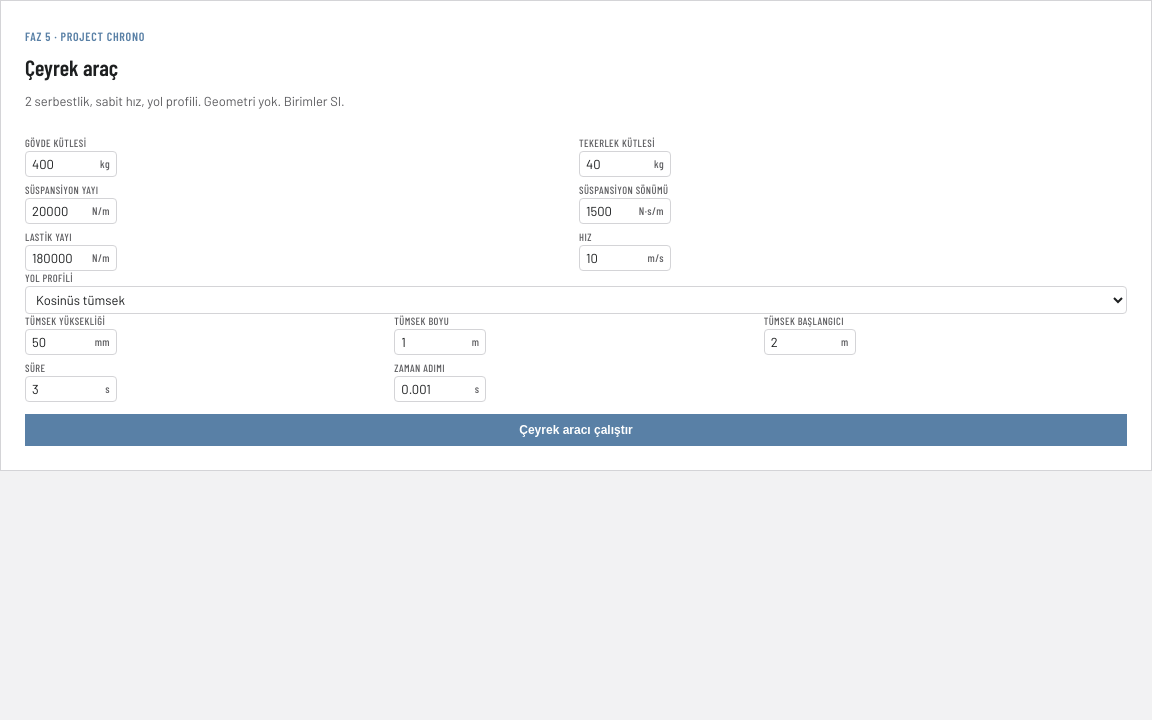
it: MbdPanel (MBD · çeyrek araç) › varsayılanlarla koşar, tepe değerleri ve üç eğriyi gösterir
Expected: the heading "Çeyrek araç" is shown, 25,54 -> 118,80
Expected: the field labelled "Gövde kütlesi" holds "400", 26,152 -> 94,176
Replace the text in the field labelled "Hız" with "12" at coordinates (611, 258), box 580,246 -> 642,270
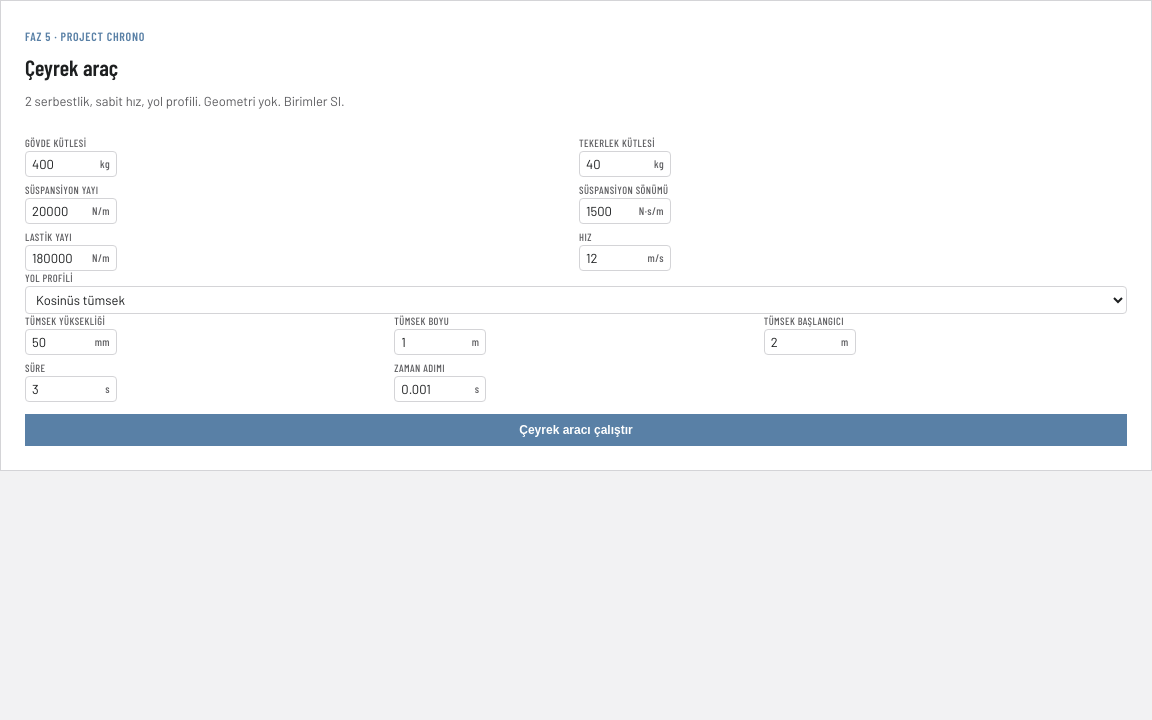
Select "Basamak" in the dropdown labelled "Yol profili" at coordinates (576, 300), box 26,287 -> 1126,313
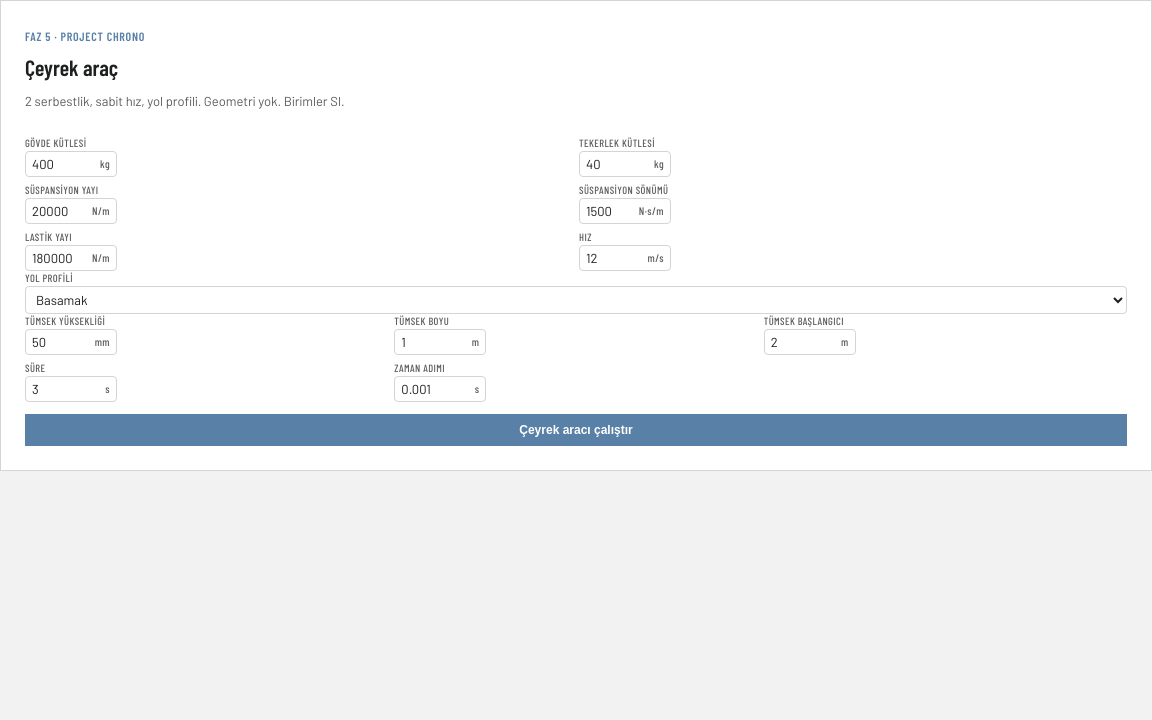
Click the button "Çeyrek aracı çalıştır" at coordinates (576, 430), box 25,414 -> 1127,446
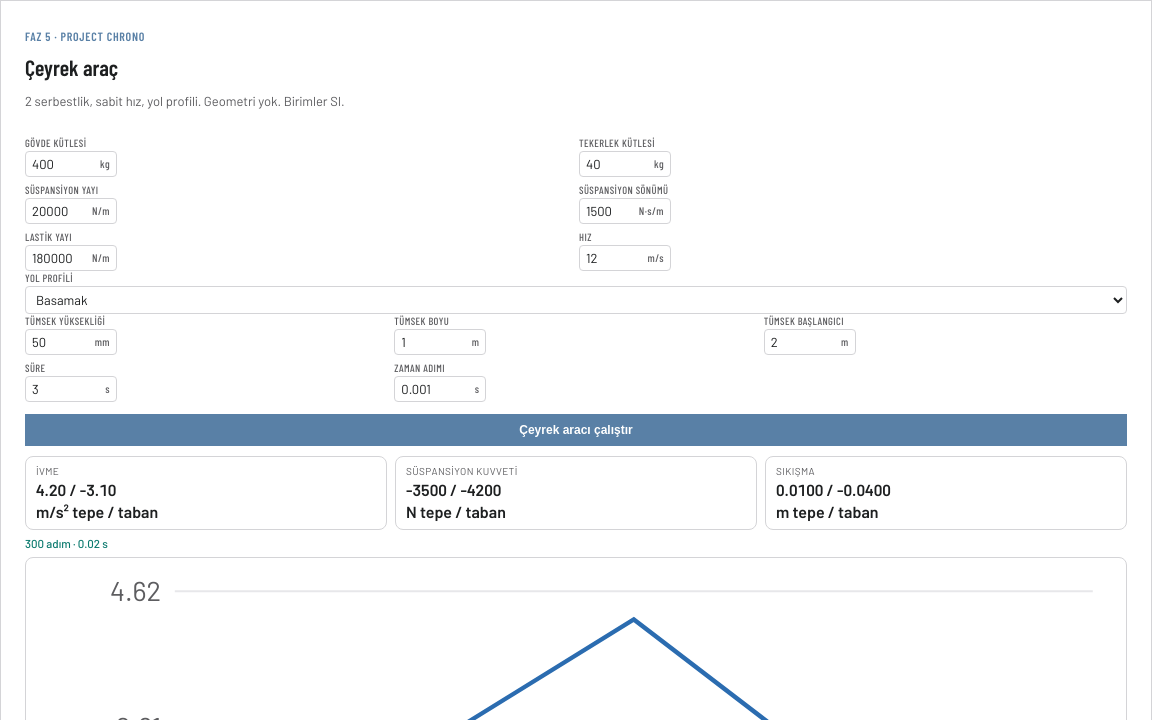
Result: the element with test id "mbd-scalars" shows "4.20" at 36,480 -> 66,499
Result: the text "300 adım · 0.02 s" is shown at 25,536 -> 108,550
